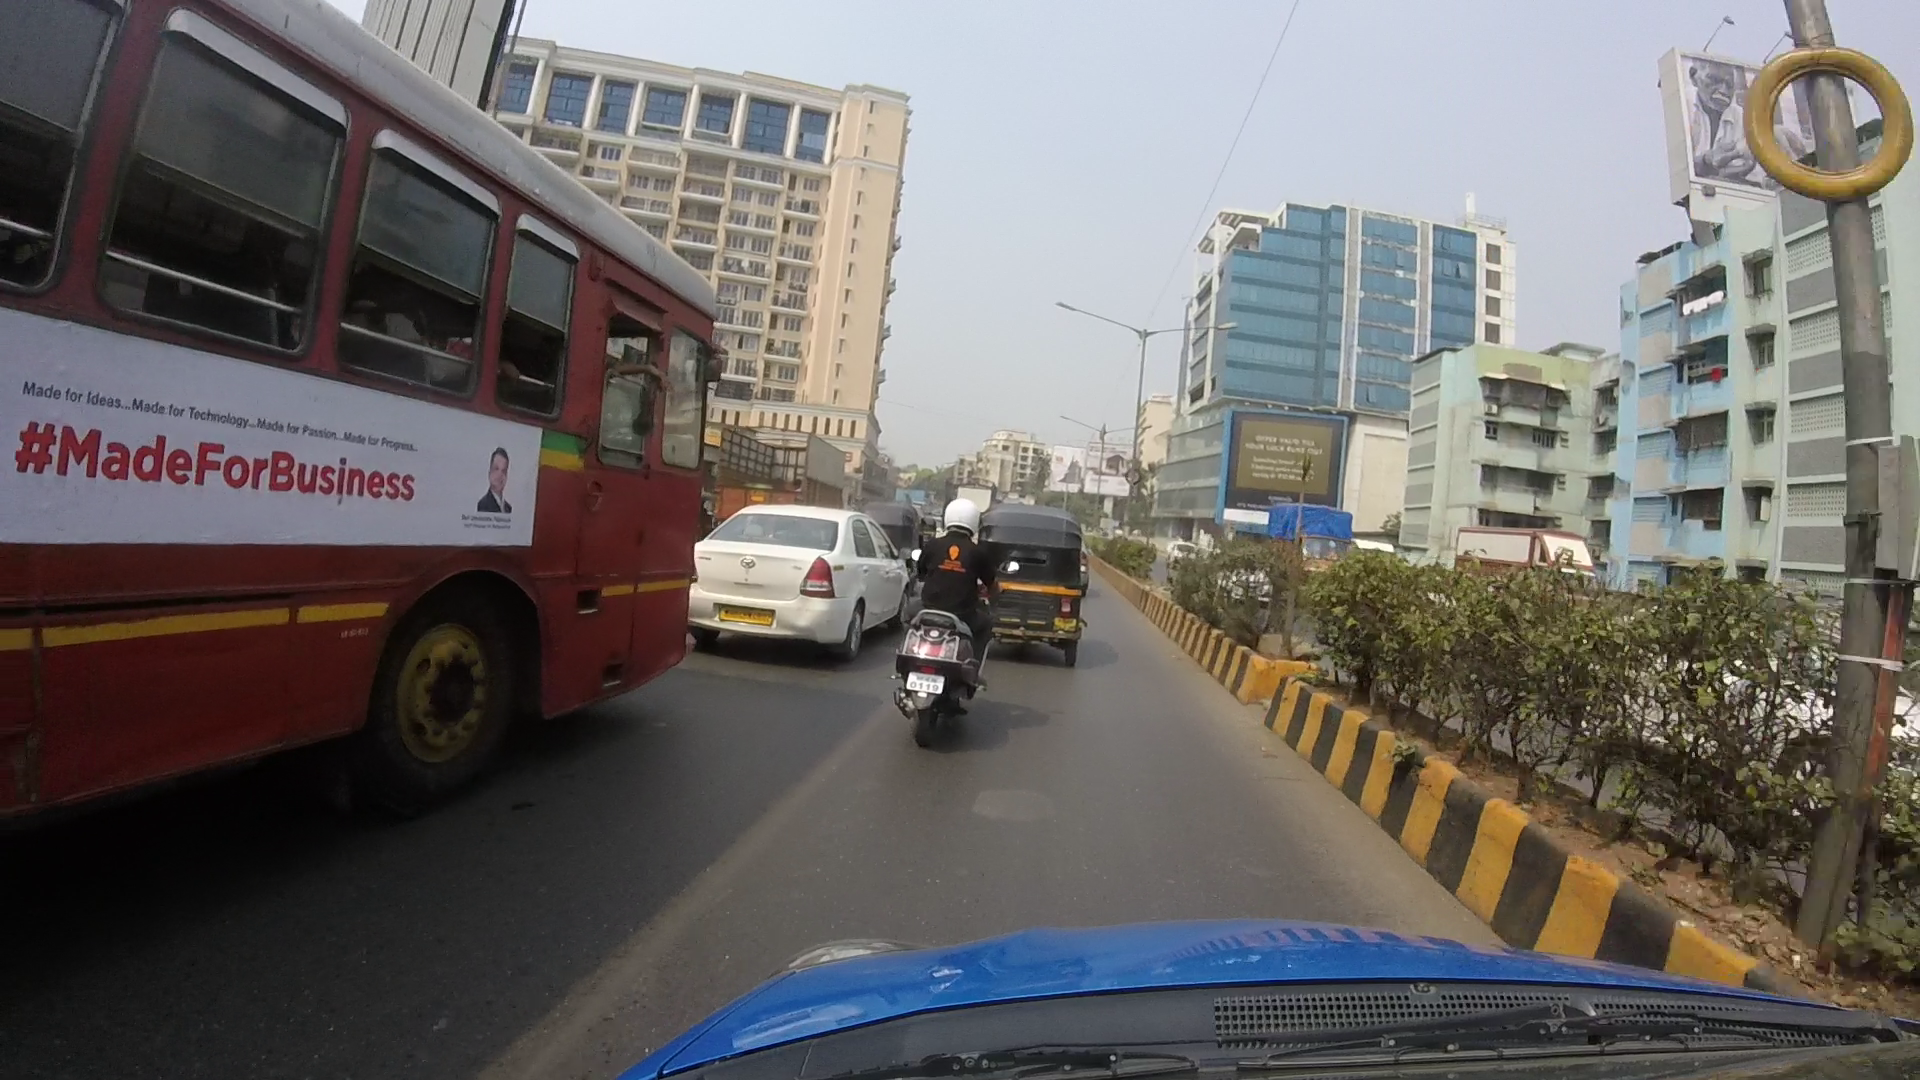bike/scooter: (880, 491, 1001, 745)
bus: (7, 11, 733, 848)
car: (671, 460, 907, 666)
rickshaw: (982, 498, 1101, 690)
